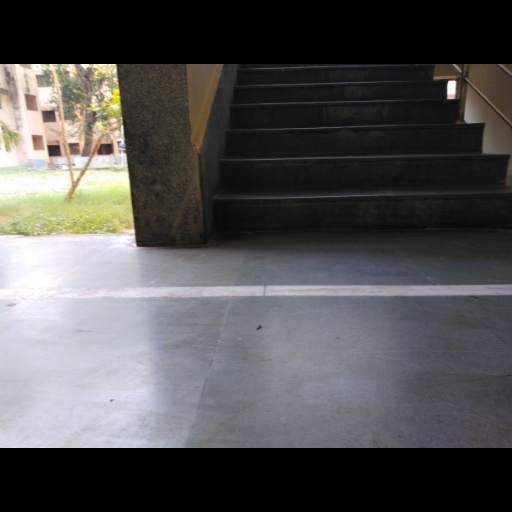Stairs: (214, 66, 512, 230)
